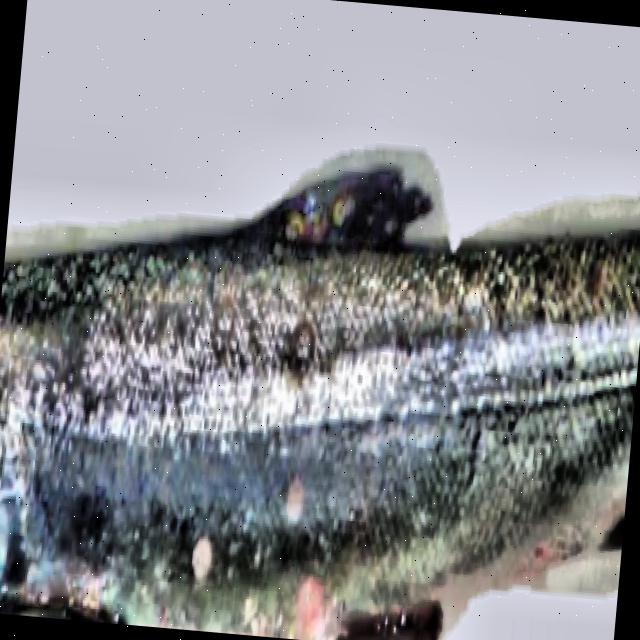mild_red: (0, 226, 640, 640)
